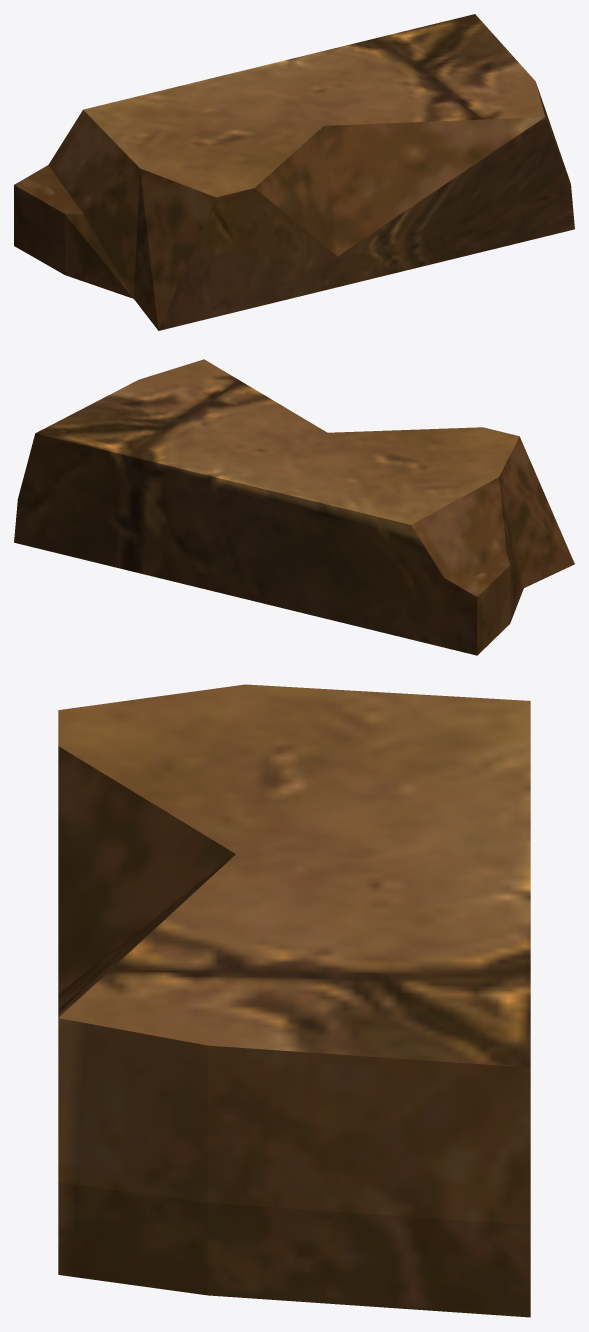
Rendered from Scene_hubian_009.FBX.
3 views of the same model, one above another, from view 1: azimuth 30°, elevation 25°; view 2: azimuth 150°, elevation 25°; view 3: azimuth 270°, elevation 25° (orthographic). The views are drawn at different scales.
Parts seen in each view (by area): view 1: Scene_hubian_009; view 2: Scene_hubian_009; view 3: Scene_hubian_009.
Part boxes in pixels (x1=…): Scene_hubian_009: x1=14, y1=14, x2=574, y2=330; Scene_hubian_009: x1=14, y1=359, x2=574, y2=655; Scene_hubian_009: x1=58, y1=684, x2=530, y2=1317.
Size of the model in its own units: 3.24 by 0.7645 by 1.43.
